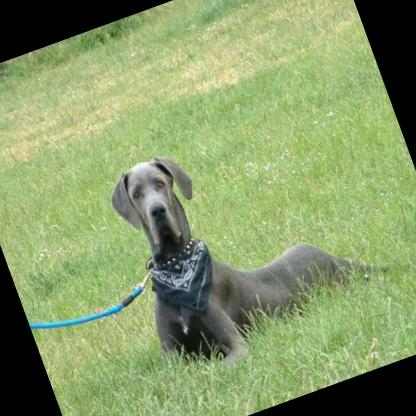Great_Dane: (61, 60, 400, 394)
